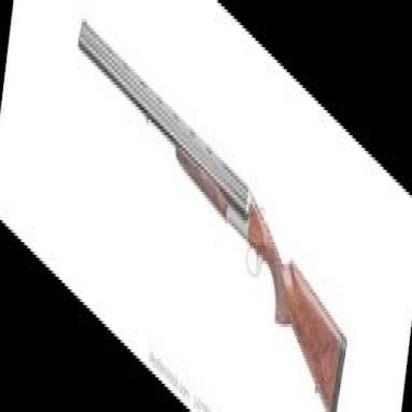Gun: (59, 0, 354, 412)
